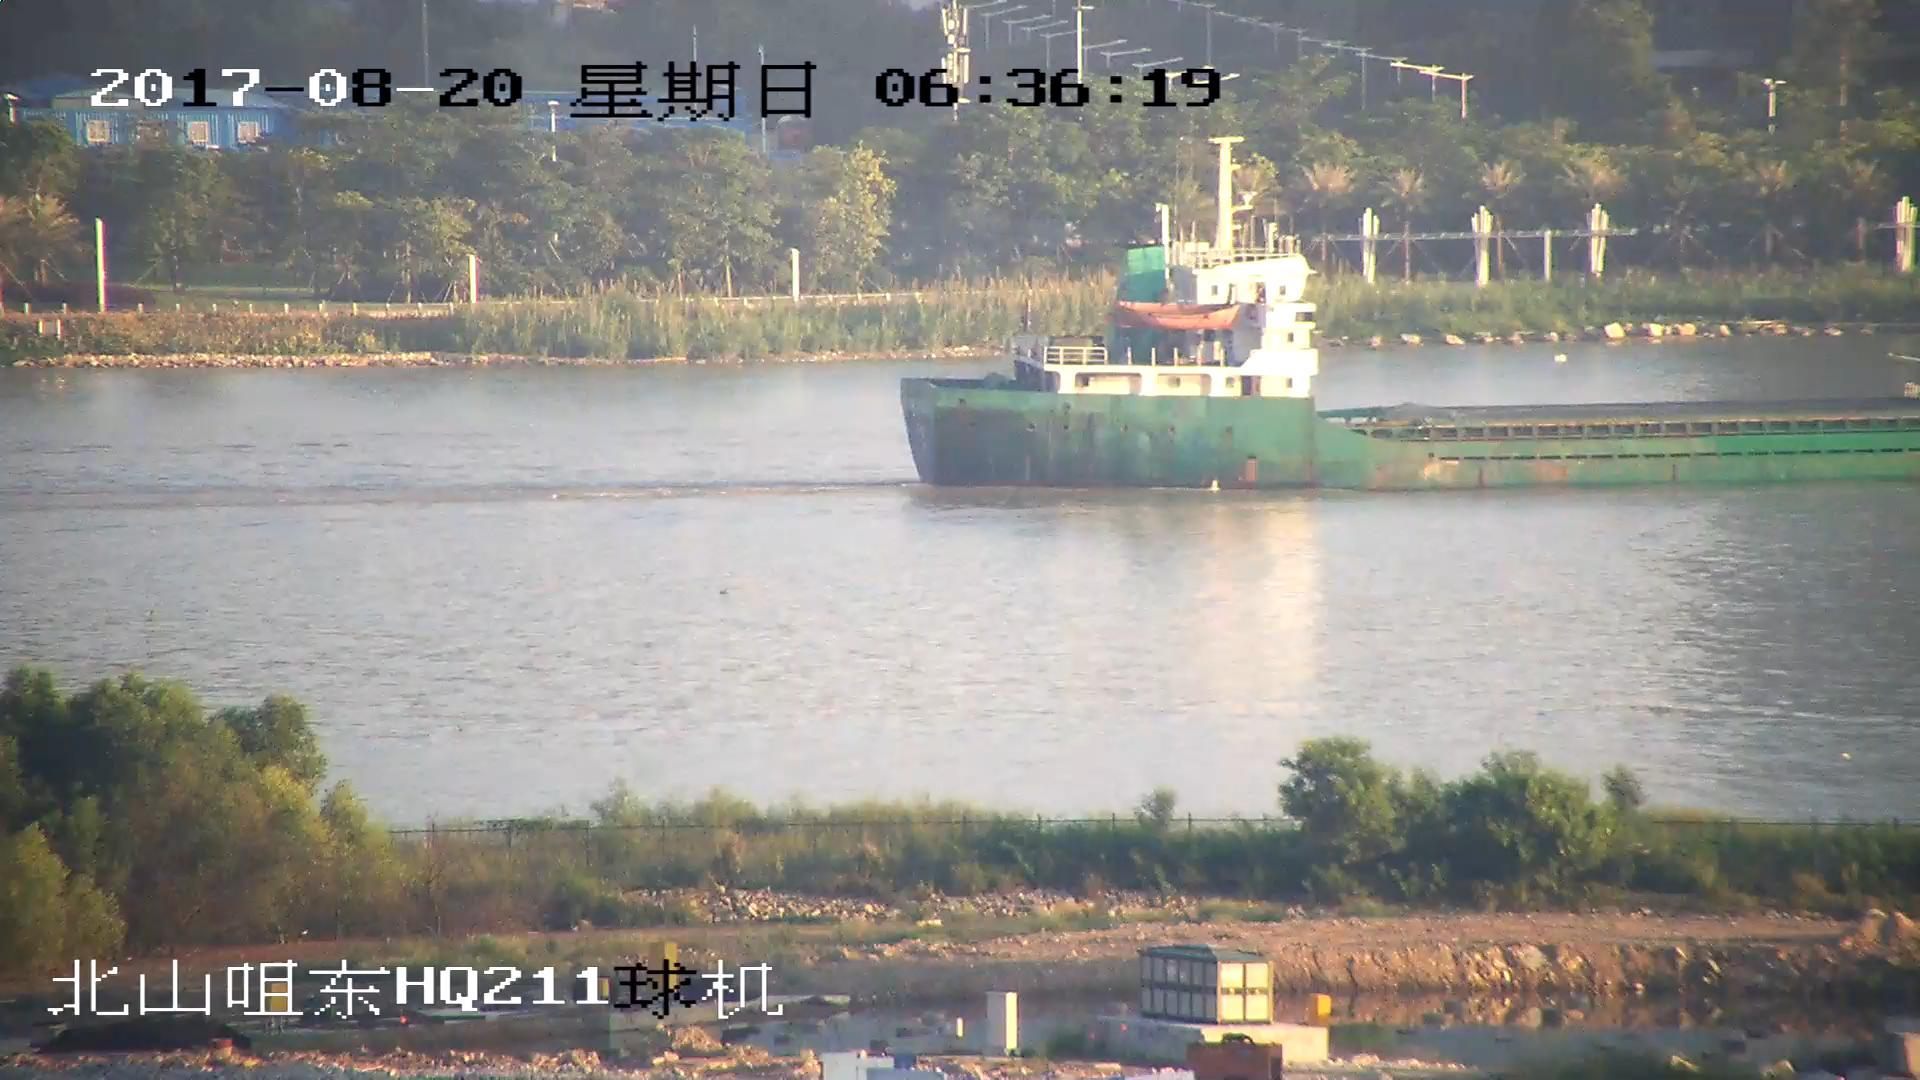Ship: (899, 141, 1920, 497)
